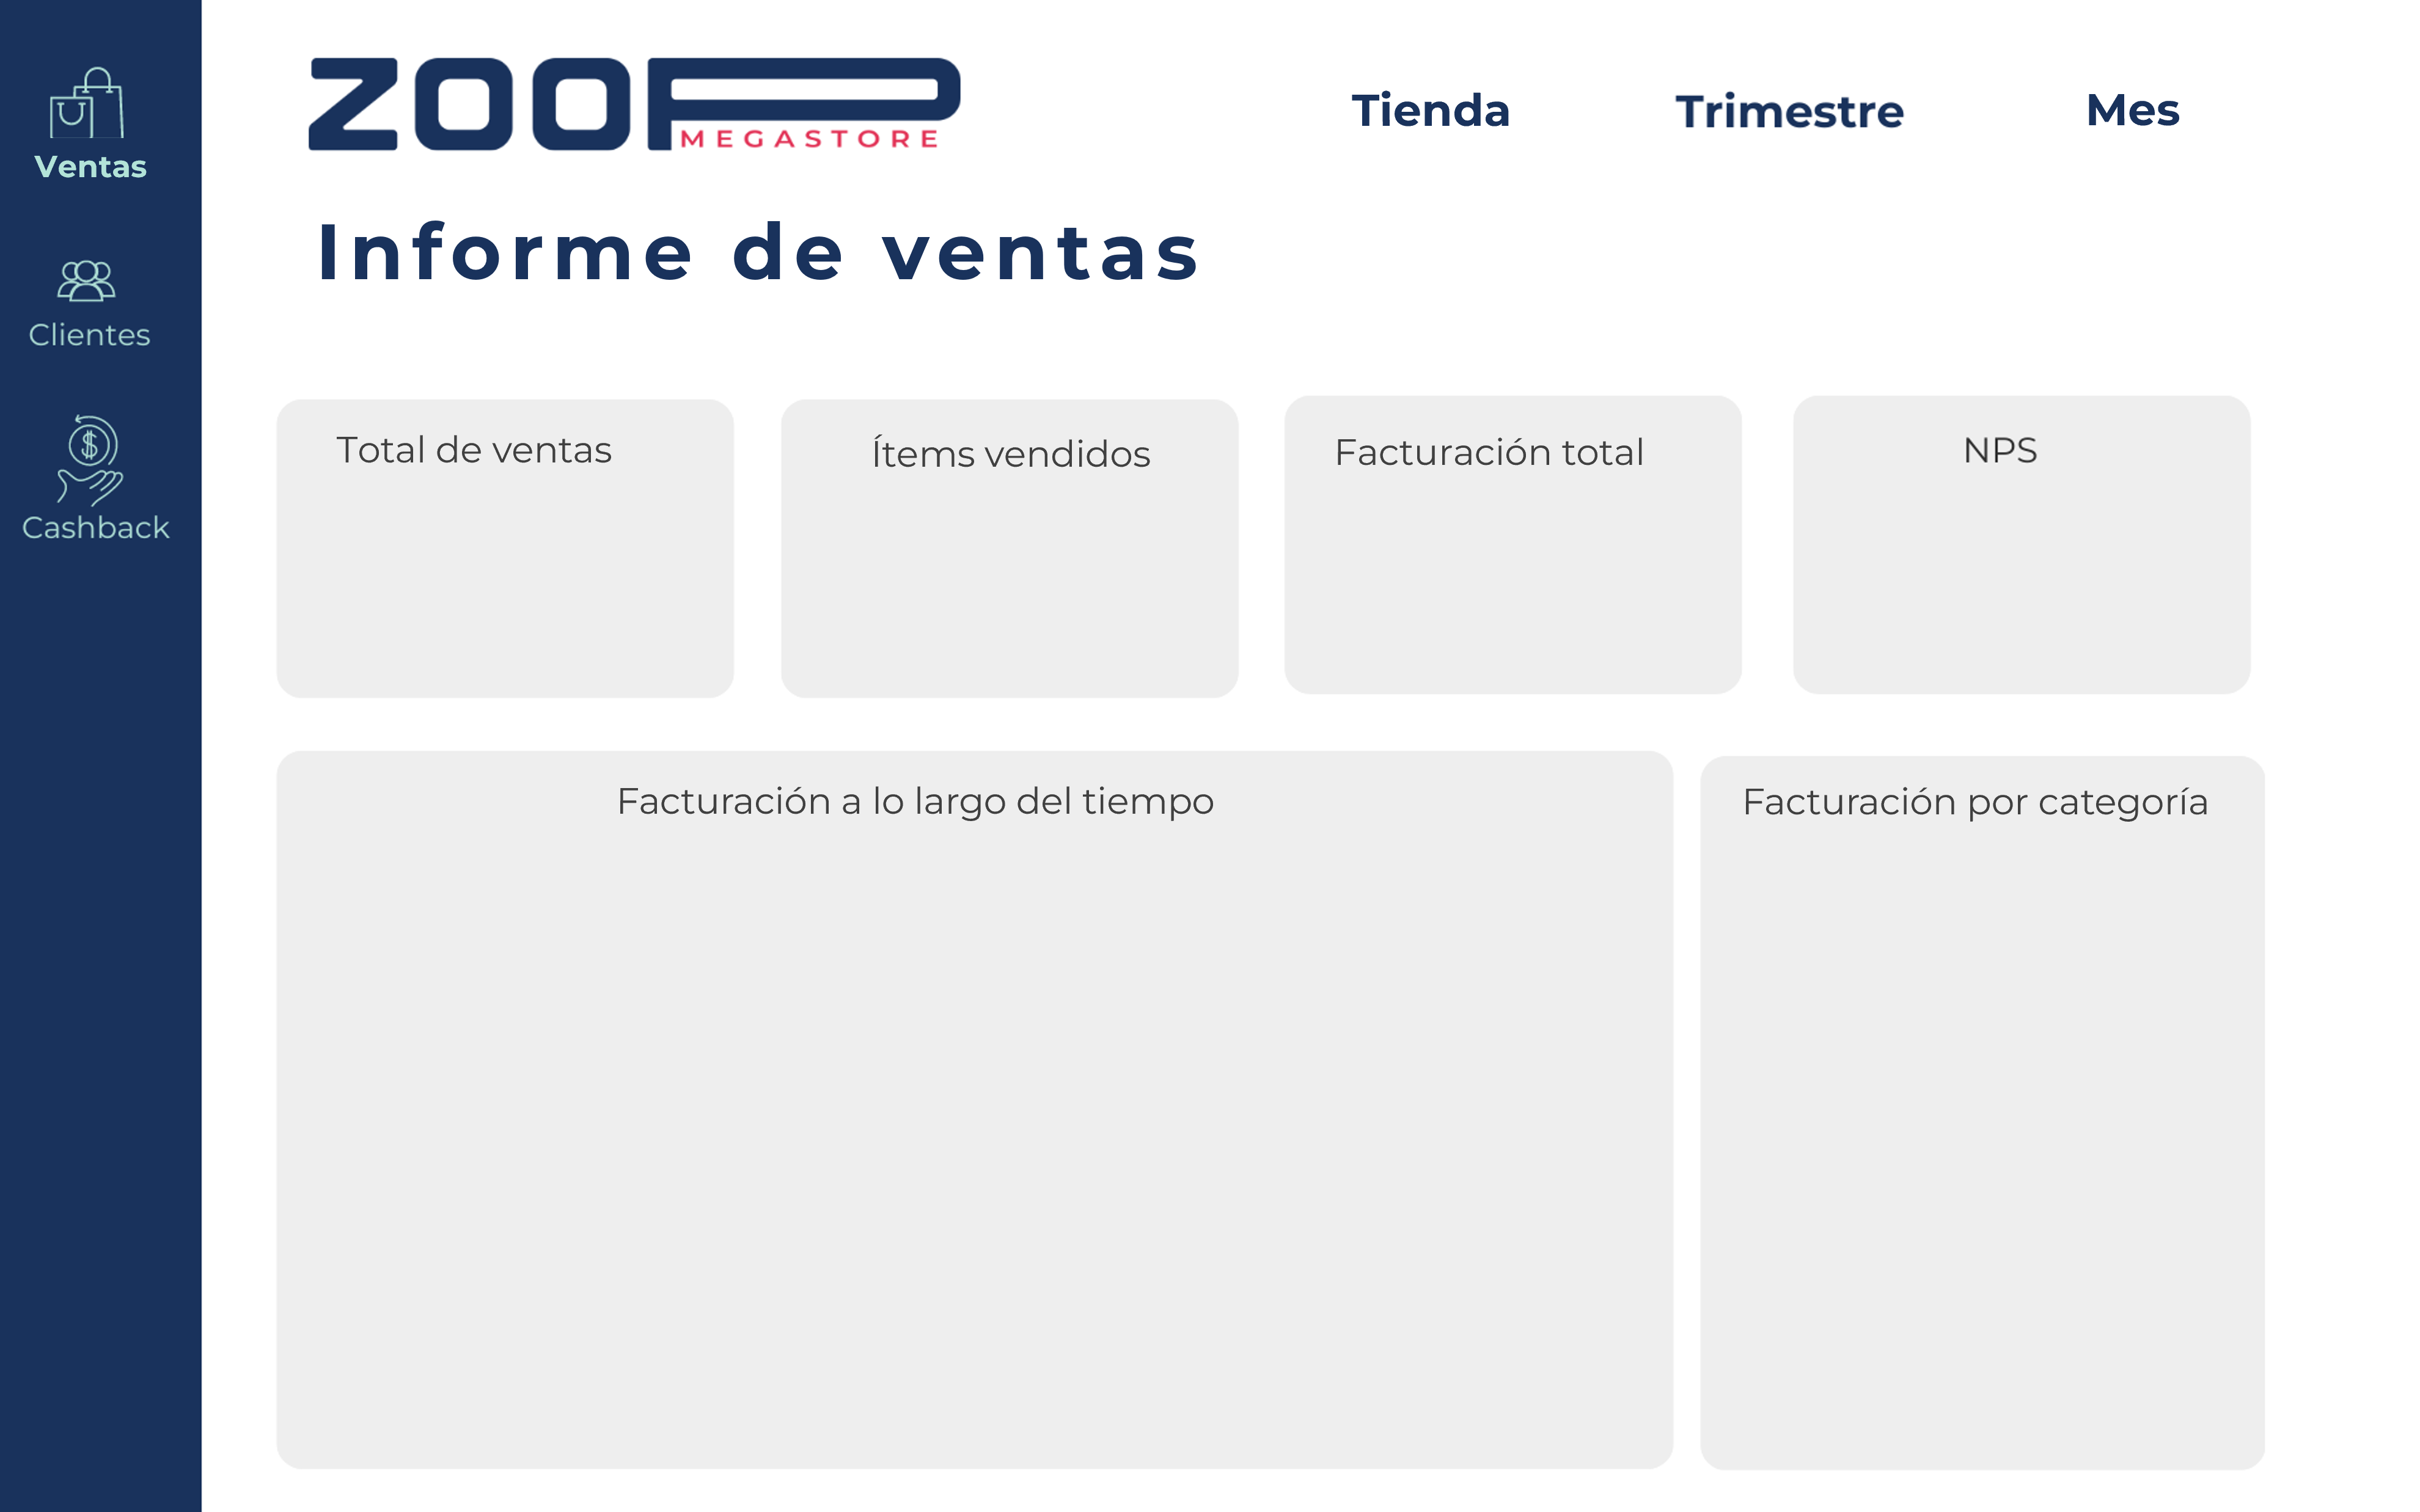

Layout of this report page (visuals, bound fields, positions):
{"tool":"powerbi","page":{"name":"Vendas","canvas":[1280,720],"ordinal":0},"visuals":[{"type":"card","fields":{"Values":["Count(ventas_2022.ID compra)"]},"box":[150.1,230.9,235.2,96.7],"z":0},{"type":"card","fields":{"Values":["Sum(ventas_2022.Cantidad)"]},"box":[418.5,230.9,232.3,96.7],"z":1000},{"type":"card","fields":{"Values":["ventas_2022.Facturacion_Total"]},"box":[681.1,230.9,238.1,96.7],"z":2000},{"type":"card","fields":{"Values":["clientes.NPS"]},"box":[951,230.9,236.7,96.7],"z":3000},{"type":"lineChart","fields":{"Category":["ventas_2022.Fecha.Variación.Jerarquía de fechas.Año","ventas_2022.Fecha.Variación.Jerarquía de fechas.Trimestre","ventas_2022.Fecha.Variación.Jerarquía de fechas.Mes","ventas_2022.Fecha.Variación.Jerarquía de fechas.Día"],"Y":["ventas_2022.Media acumulada Facturacion"]},"box":[158.7,398.3,723,297.3],"z":4000},{"type":"multiRowCard","fields":{"Values":["ventas_2022.Categoría del producto","ventas_2022.Facturacion_Total"]},"box":[903.4,398.3,294.4,297.3],"z":5000},{"type":"slicer","fields":{"Values":["ventas_2022.Unidad"]},"box":[694.1,67.8,168.8,54.8],"z":6000},{"type":"slicer","fields":{"Values":["ventas_2022.Fecha.Variación.Jerarquía de fechas.Trimestre"]},"box":[881.5,67.2,187.5,54.7],"z":7000},{"type":"slicer","fields":{"Values":["ventas_2022.Fecha.Variación.Jerarquía de fechas.Mes"]},"box":[1069,67.2,192.2,54.7],"z":8000},{"type":"actionButton","box":[0,112.1,107.7,64.3],"z":8001},{"type":"actionButton","box":[0,188.4,108.1,72],"z":8002}]}

Visuals, with their boxes on the page's 1280x720 design canvas (x1, y1, x2, y2). These are canvas units, not pixel positions in the 2420x1512 screenshot, which may show the page scaled, cropped or inside an application window:
card - Count(ventas_2022.ID compra): x1=150 y1=231 x2=385 y2=328
card - Sum(ventas_2022.Cantidad): x1=418 y1=231 x2=651 y2=328
card - ventas_2022.Facturacion_Total: x1=681 y1=231 x2=919 y2=328
card - clientes.NPS: x1=951 y1=231 x2=1188 y2=328
lineChart - ventas_2022.Fecha.Variación.Jerarquía de fechas.Año x ventas_2022.Fecha.Variación.Jerarquía de fechas.Trimestre: x1=159 y1=398 x2=882 y2=696
multiRowCard - ventas_2022.Categoría del producto x ventas_2022.Facturacion_Total: x1=903 y1=398 x2=1198 y2=696
slicer - ventas_2022.Unidad: x1=694 y1=68 x2=863 y2=123
slicer - ventas_2022.Fecha.Variación.Jerarquía de fechas.Trimestre: x1=882 y1=67 x2=1069 y2=122
slicer - ventas_2022.Fecha.Variación.Jerarquía de fechas.Mes: x1=1069 y1=67 x2=1261 y2=122
actionButton: x1=0 y1=112 x2=108 y2=176
actionButton: x1=0 y1=188 x2=108 y2=260
